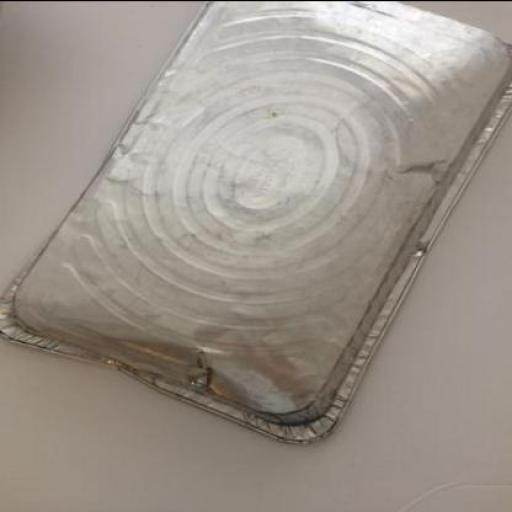metal: (0, 1, 511, 442)
